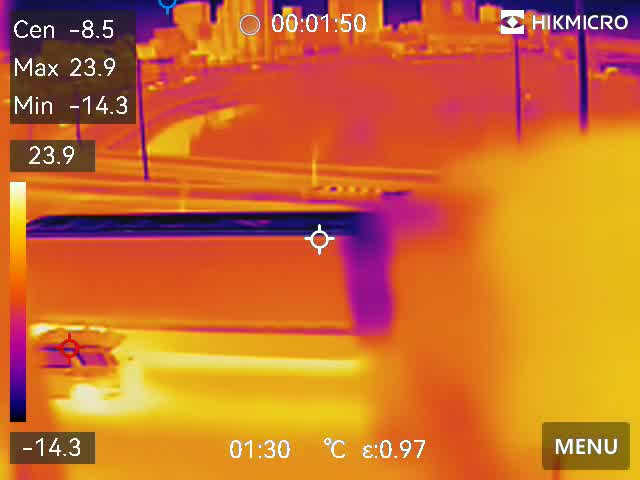heavyTruck: (21, 211, 391, 341)
largeCar: (28, 321, 129, 404)
